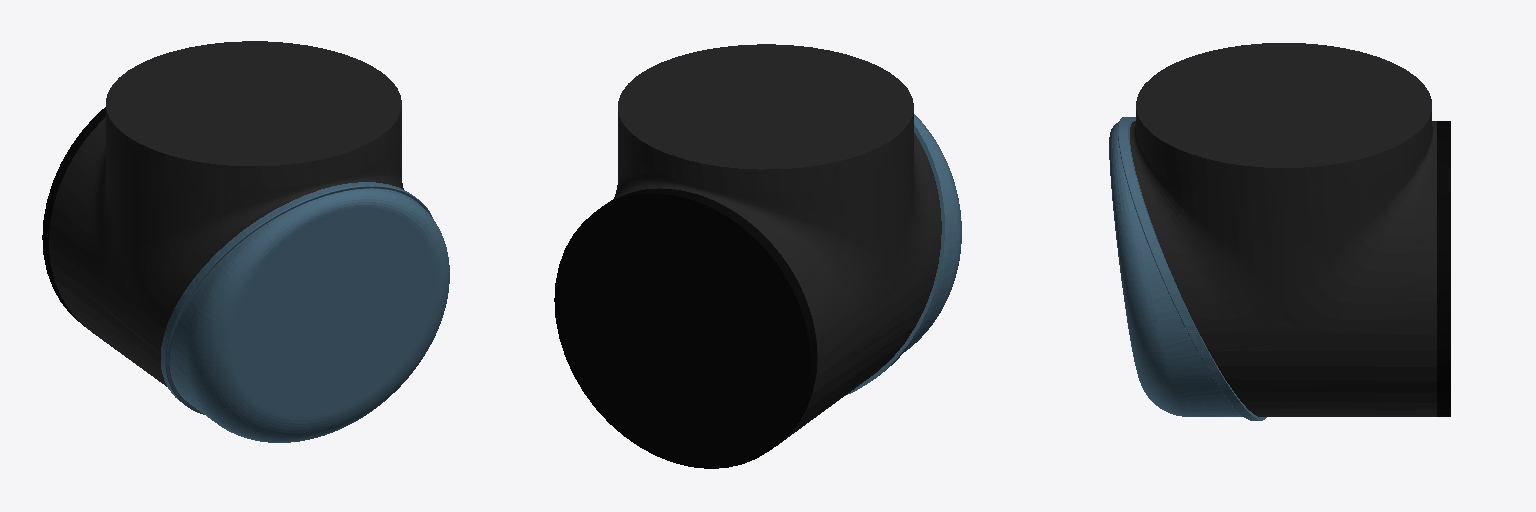
The model's file is shoulder.obj.
3 renders of one model, left to right at view 1: azimuth 30°, elevation 25°; view 2: azimuth 150°, elevation 25°; view 3: azimuth 270°, elevation 25°, orthographic.
Visible parts, largest first — view 1: Actor0_ActorShape0_0-Mesh.023, Actor1_ActorShape1_0-Mesh.017; view 2: Actor0_ActorShape0_0-Mesh.023, Actor1_ActorShape1_0-Mesh.017; view 3: Actor0_ActorShape0_0-Mesh.023, Actor1_ActorShape1_0-Mesh.017.
Part boxes in pixels (left/top/right/bottom): Actor0_ActorShape0_0-Mesh.023: left=42, top=41, right=403, bottom=386; Actor1_ActorShape1_0-Mesh.017: left=161, top=182, right=449, bottom=442; Actor0_ActorShape0_0-Mesh.023: left=554, top=44, right=941, bottom=468; Actor1_ActorShape1_0-Mesh.017: left=845, top=114, right=961, bottom=395; Actor0_ActorShape0_0-Mesh.023: left=1130, top=43, right=1450, bottom=416; Actor1_ActorShape1_0-Mesh.017: left=1109, top=117, right=1266, bottom=420.
Bounding box in the file's own units: 0.119 × 0.13 × 0.1337.